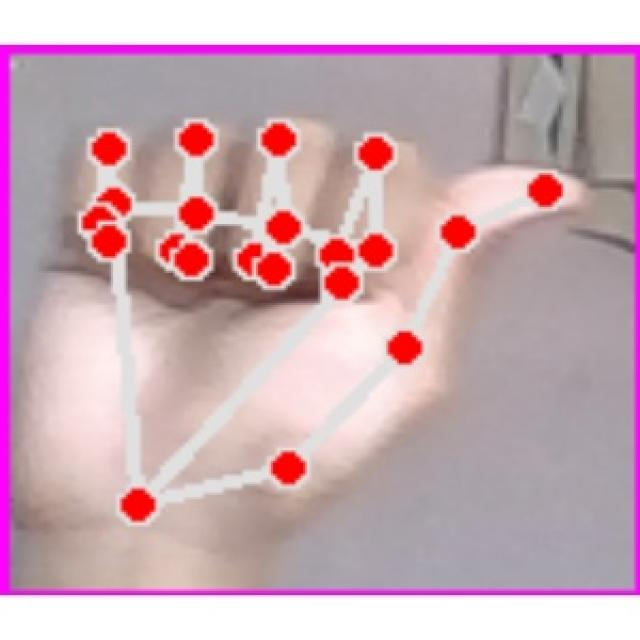A: (19, 60, 606, 567)
